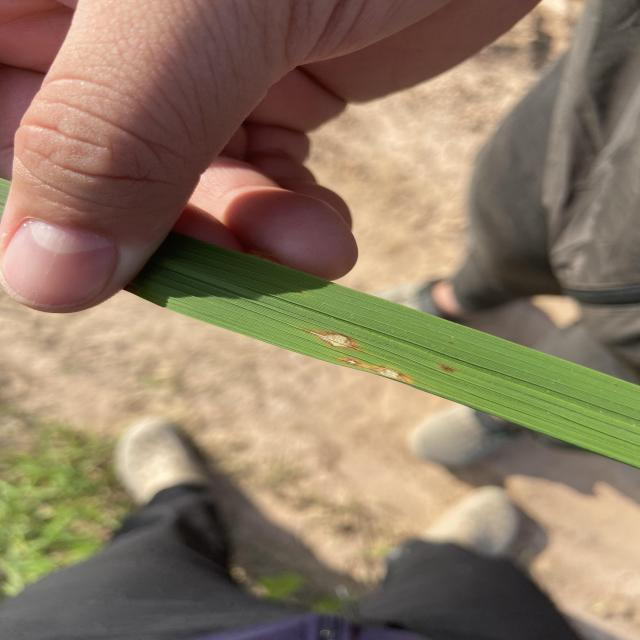Dao on: (339, 358, 410, 382), (308, 331, 357, 349)
